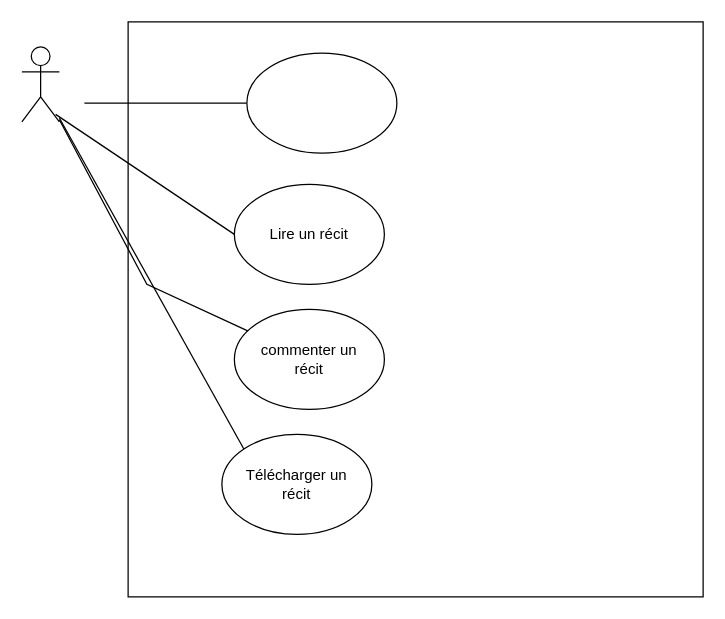
This 725x619 diagram has some shape labels left out. The centre of each missing label's shape, as x and y in pixels:
"Actor" belongs at point 40,84.
"Poster son récit" belongs at point 321,102.
